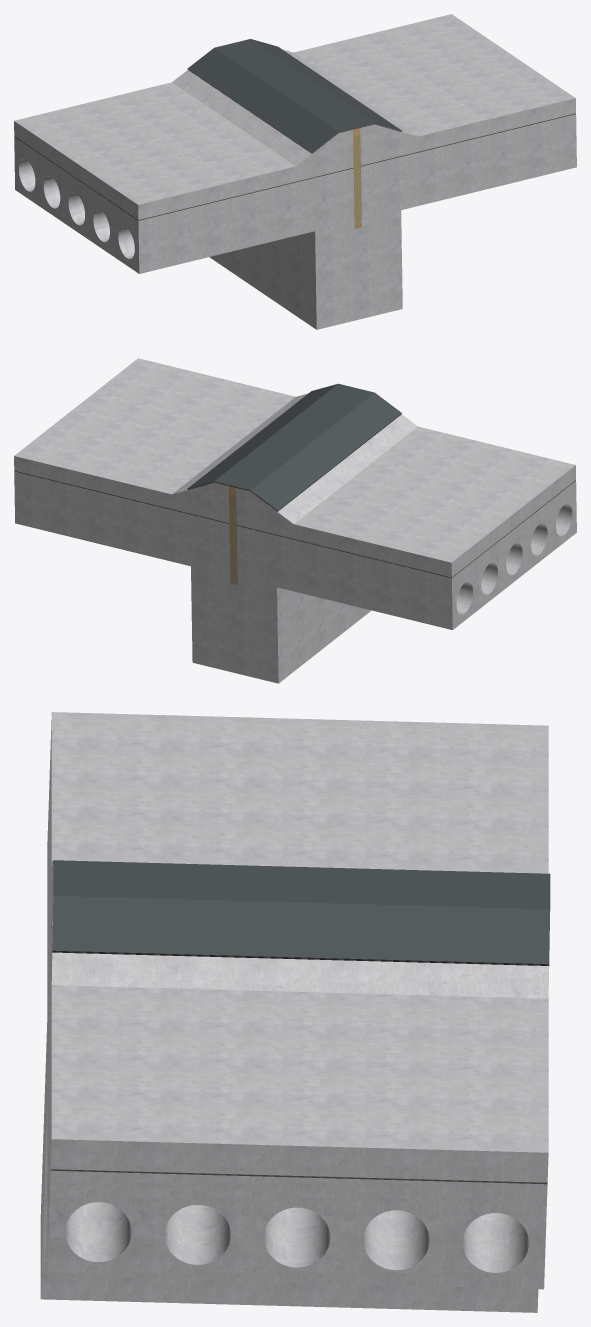
File: transverse-joint-01.glb
3 renders of one model, top to bottom at view 1: azimuth 30°, elevation 25°; view 2: azimuth 150°, elevation 25°; view 3: azimuth 270°, elevation 25°, orthographic. The views are drawn at different scales.
Visible parts, largest first — view 1: 细石混凝土刚性层, 空心屋面板, 承重支座, 二布三油, 水泥砂浆找平层, 纸筋灰隔离层, 浸沥青木丝板缝底填充, 支承座浆; view 2: 细石混凝土刚性层, 空心屋面板, 承重支座, 二布三油, 水泥砂浆找平层, 纸筋灰隔离层, 浸沥青木丝板缝底填充, 支承座浆; view 3: 细石混凝土刚性层, 空心屋面板, 二布三油, 承重支座, 水泥砂浆找平层, 纸筋灰隔离层.
Part boxes in pixels (x1,y1,x2,y2): 细石混凝土刚性层: [14, 14, 575, 219]; 空心屋面板: [14, 122, 576, 273]; 承重支座: [209, 218, 402, 329]; 二布三油: [187, 39, 401, 153]; 水泥砂浆找平层: [14, 114, 576, 228]; 纸筋灰隔离层: [14, 113, 575, 220]; 浸沥青木丝板缝底填充: [353, 135, 361, 228]; 支承座浆: [307, 210, 401, 238]; 细石混凝土刚性层: [14, 358, 575, 577]; 空心屋面板: [14, 479, 576, 629]; 承重支座: [191, 574, 371, 683]; 二布三油: [187, 383, 401, 511]; 水泥砂浆找平层: [14, 471, 576, 585]; 纸筋灰隔离层: [14, 471, 575, 578]; 浸沥青木丝板缝底填充: [229, 493, 237, 584]; 支承座浆: [191, 566, 283, 594]; 细石混凝土刚性层: [50, 712, 549, 1182]; 空心屋面板: [47, 760, 546, 1289]; 二布三油: [52, 860, 550, 965]; 承重支座: [40, 1043, 538, 1312]; 水泥砂浆找平层: [50, 750, 547, 1199]; 纸筋灰隔离层: [50, 1169, 547, 1184].
Size of the model in its own units: 1.22 by 0.5233 by 0.6149.
Materials: 10 (6 with a texture image).
